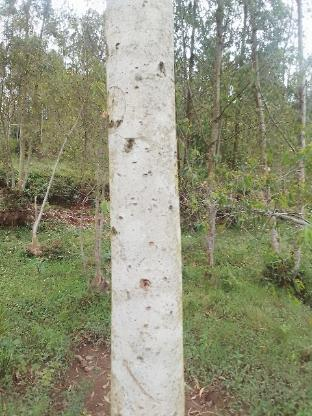tree: (96, 0, 192, 416)
